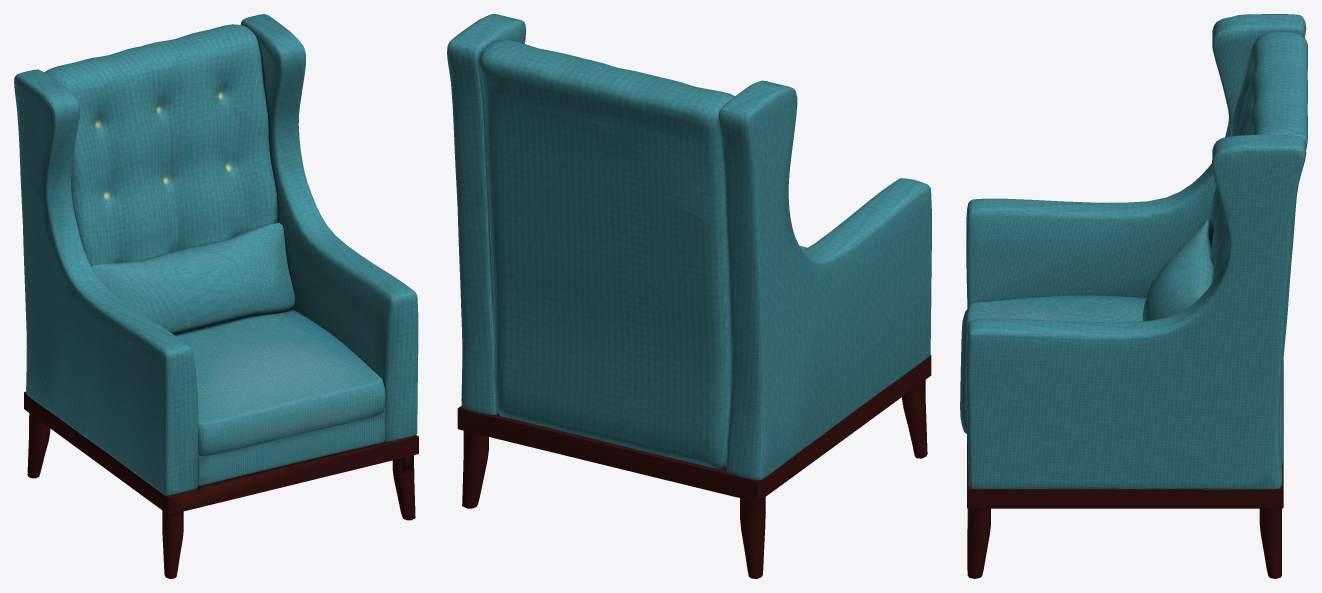
File: single_sofa_with_armrest.glb
The picture shows the model from 3 angles, left to right: view 1: azimuth 30°, elevation 25°; view 2: azimuth 150°, elevation 25°; view 3: azimuth 270°, elevation 25°; orthographic projection. The views are drawn at different scales.
Visible parts, largest first — view 1: Sofa_Seat_Sofa_Cloth_0, Sofa_Seat_Sofa_Base_Wood_0; view 2: Sofa_Seat_Sofa_Cloth_0, Sofa_Seat_Sofa_Base_Wood_0; view 3: Sofa_Seat_Sofa_Cloth_0, Sofa_Seat_Sofa_Base_Wood_0.
Part boxes in pixels (left/top/right/bottom): Sofa_Seat_Sofa_Cloth_0: left=14, top=14, right=418, bottom=495; Sofa_Seat_Sofa_Base_Wood_0: left=24, top=391, right=418, bottom=578; Sofa_Seat_Sofa_Cloth_0: left=447, top=14, right=931, bottom=479; Sofa_Seat_Sofa_Base_Wood_0: left=457, top=354, right=931, bottom=578; Sofa_Seat_Sofa_Cloth_0: left=960, top=14, right=1307, bottom=489; Sofa_Seat_Sofa_Base_Wood_0: left=967, top=361, right=1283, bottom=578.
Size of the model in its own units: 0.7625 by 1.14 by 0.8298.
2 materials, 2 textured.
